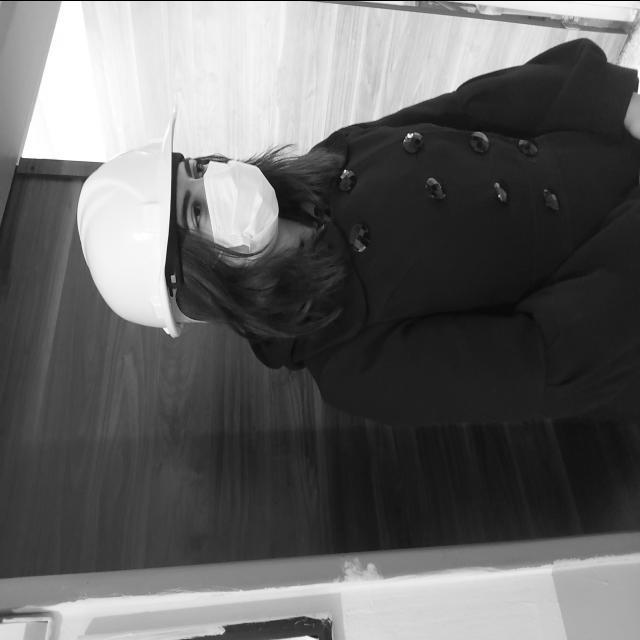safety_helmet: (78, 116, 186, 336)
